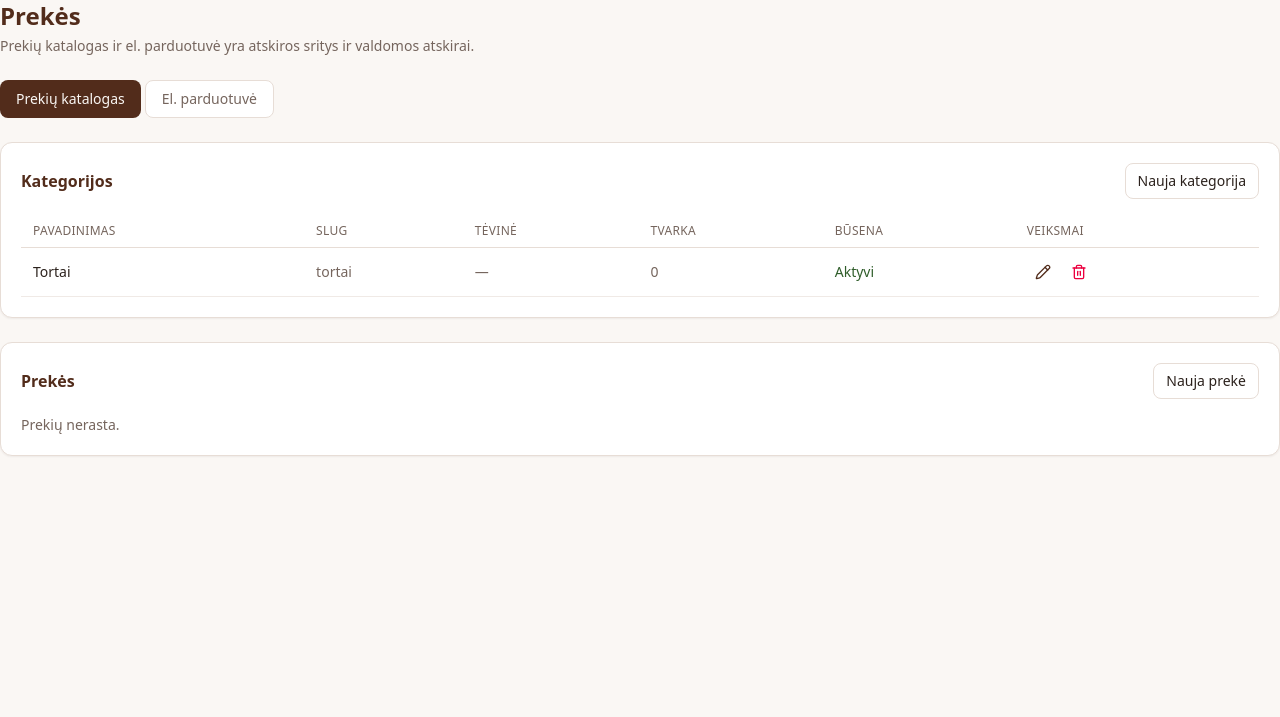
Product image upload › does not expose a URL text field and blocks saving a new product without an upload
Expected: the text "Prekių nerasta." is shown, [21,415,120,434]
Click the button "Nauja prekė" at point(1206, 381), box [1153,363,1259,399]
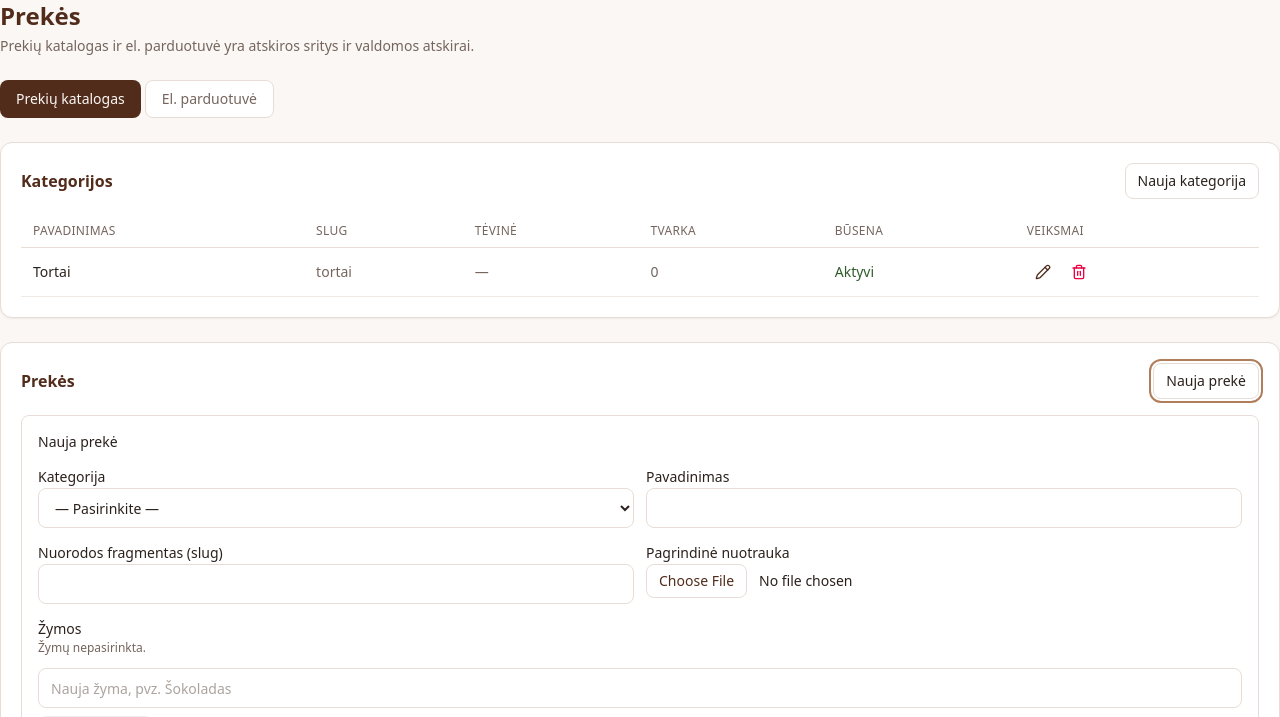
Select "Tortai" in the dropdown labelled "Kategorija" at point(336, 508), box [38,488,634,528]
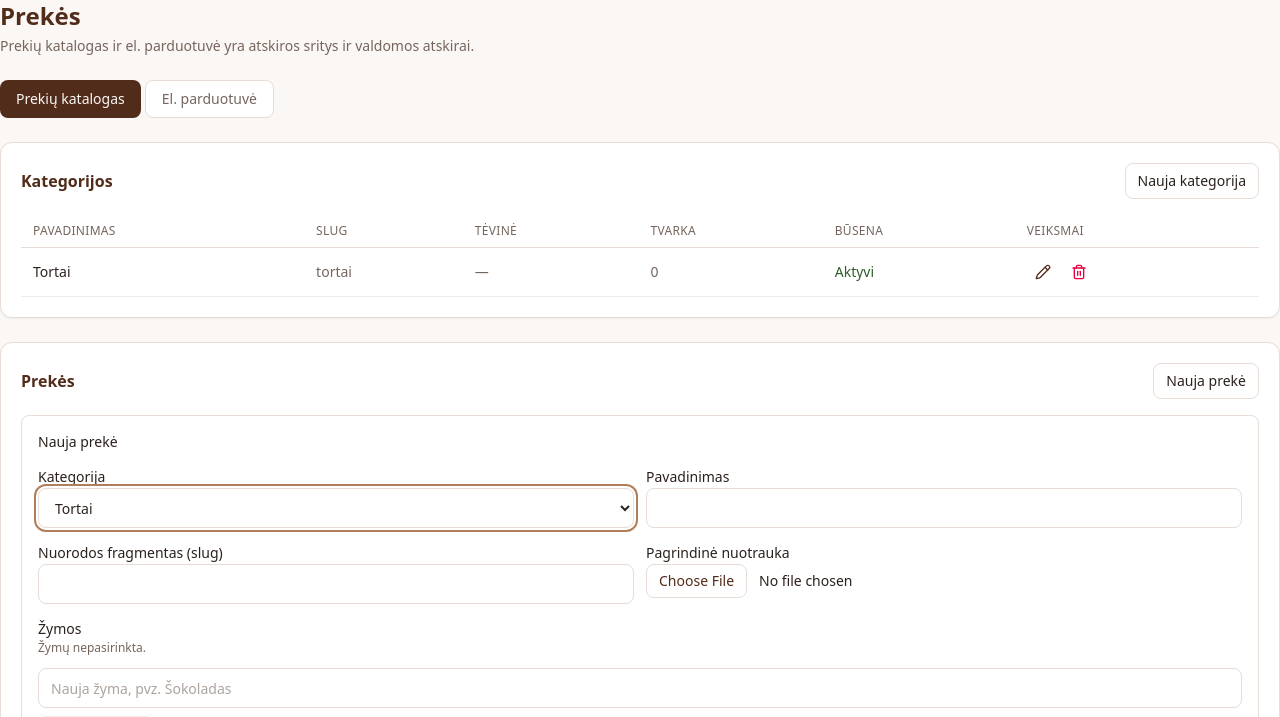
Type "Šventinis tortas" into the field labelled "Pavadinimas" at point(944, 508), box [646,488,1242,528]
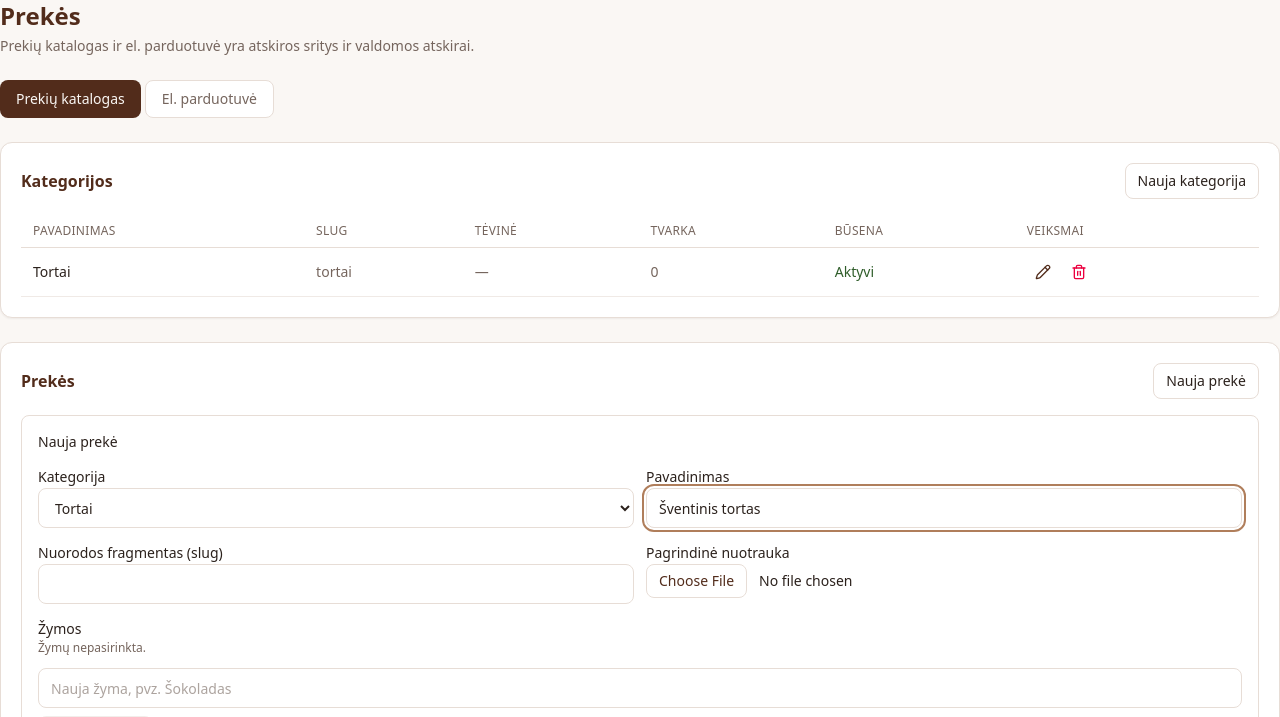
Type "sventinis-tortas" into the field labelled "Nuorodos fragmentas (slug)" at point(336, 584), box [38,564,634,604]
(page scrolled)
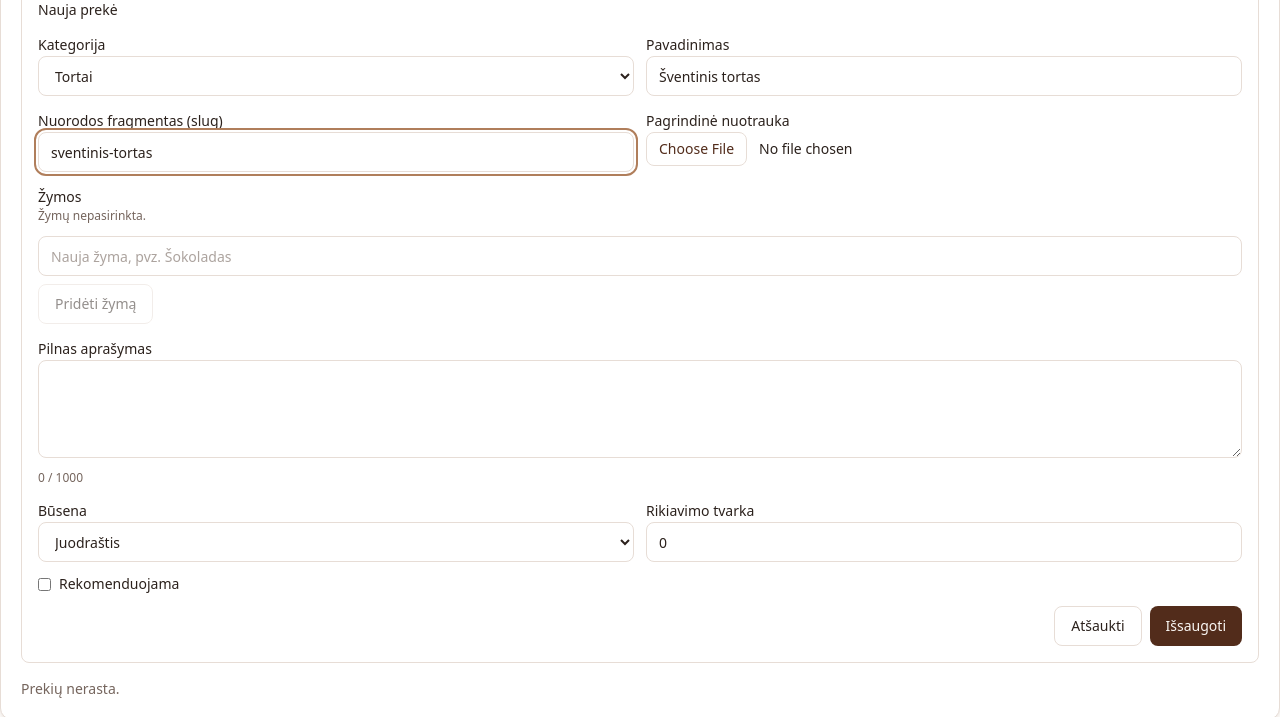
Type "Ilgas" into the text box labelled "Pilnas aprašymas" at point(640, 409), box [38,360,1242,458]
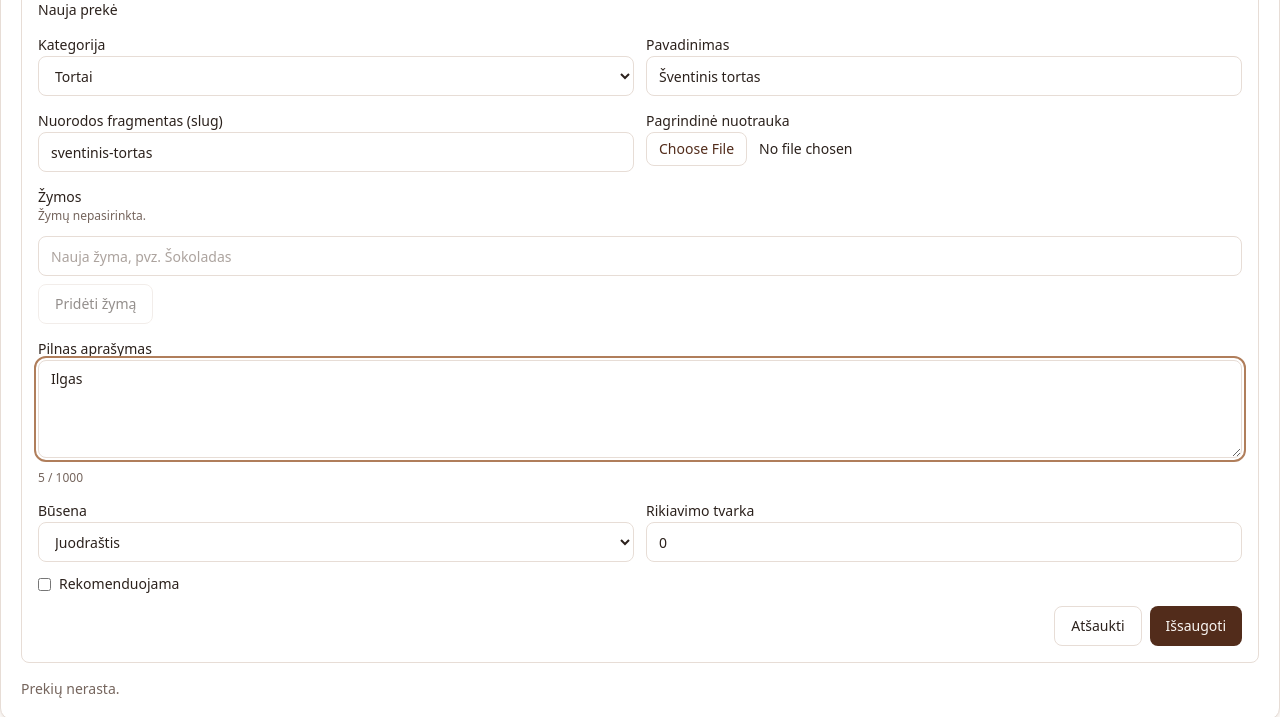
Click the button "Išsaugoti" at point(1196, 626), box [1150,606,1242,646]
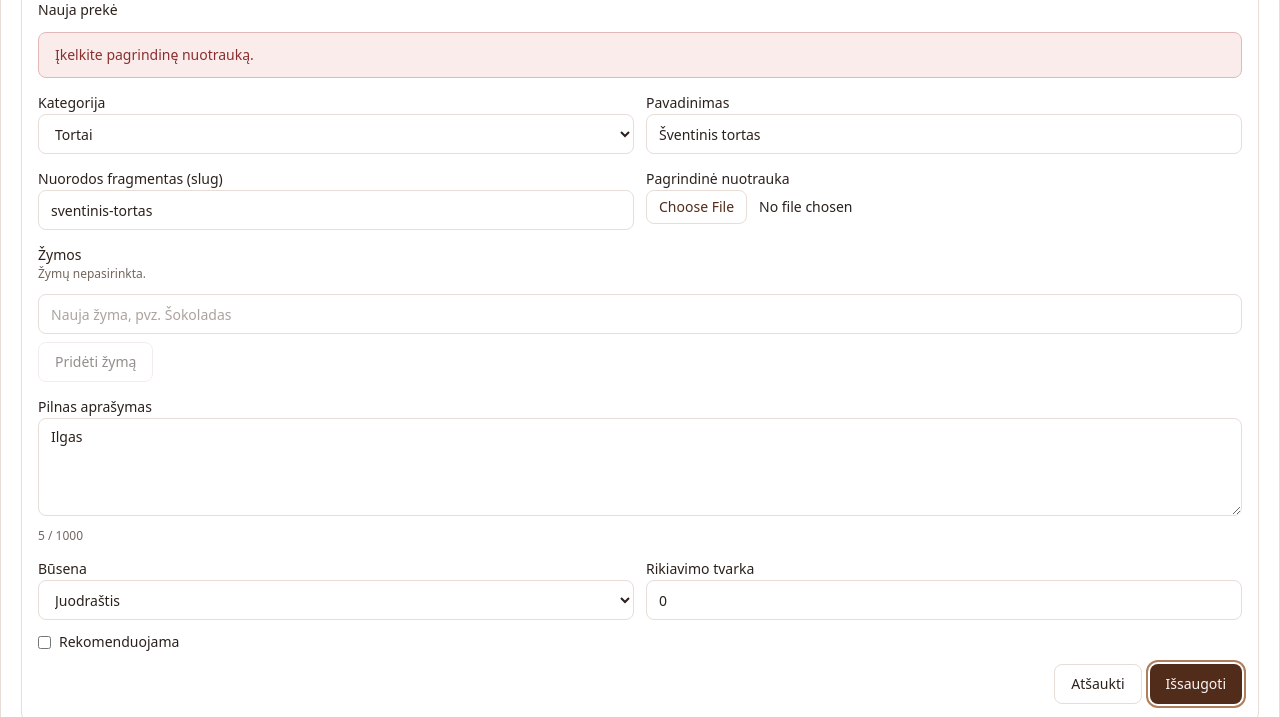
Result: the text "Įkelkite pagrindinę nuotrauką." is shown at [38,32,1242,78]
